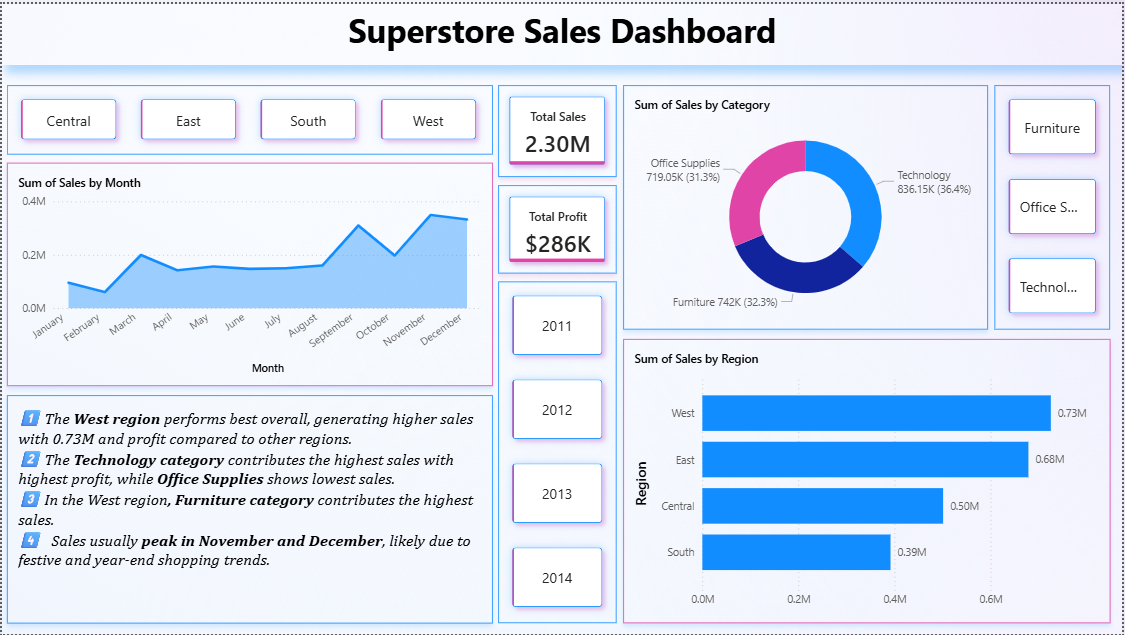

The page's visual inventory and layout, read from the dashboard file:
{"tool":"powerbi","page":{"name":"Page 1","canvas":[1280,720],"ordinal":0},"visuals":[{"type":"donutChart","fields":{"Y":["Sum(Superstore.Sales)"],"Category":["Superstore.Category"]},"box":[710,93.3,416.7,278.9],"z":1000},{"type":"barChart","fields":{"Category":["Superstore.Region"],"Y":["Sum(Superstore.Sales)"]},"box":[710,383.3,556.7,324.4],"z":1500},{"type":"advancedSlicerVisual","fields":{"Values":["Superstore.Order Date.Variation.Date Hierarchy.Year"]},"box":[567.8,317.8,135.6,390],"z":2000},{"type":"lineChart","fields":{"Category":["Superstore.Order Date.Variation.Date Hierarchy.Month"],"Y":["Sum(Superstore.Sales)"]},"box":[5.6,181.1,555.6,255.6],"z":3000},{"type":"advancedSlicerVisual","fields":{"Values":["Superstore.Region"]},"box":[5.6,93.3,555.6,78.9],"z":4000},{"type":"textbox","box":[0,0,1280.5,69.4],"z":5000},{"type":"cardVisual","fields":{"Data":["Sum(Superstore.Profit)"]},"box":[567.8,207.8,135.6,101.1],"z":6000},{"type":"textbox","box":[5.6,446.7,555.6,261.1],"z":7000},{"type":"cardVisual","fields":{"Data":["Sum(Superstore.Sales)"]},"box":[567.8,93.3,135.6,104.4],"z":8000},{"type":"advancedSlicerVisual","fields":{"Values":["Superstore.Category"]},"box":[1134.4,93.3,132.2,278.9],"z":9000}]}

Visuals, with their boxes in screenshot pixels (x1, y1, x2, y2), scaled from the page's 1280x720 canvas onto the 1125x635 screenshot:
donutChart - Sum(Superstore.Sales) x Superstore.Category: 624,82,990,328
barChart - Superstore.Region x Sum(Superstore.Sales): 624,338,1113,624
advancedSlicerVisual - Superstore.Order Date.Variation.Date Hierarchy.Year: 499,280,618,624
lineChart - Superstore.Order Date.Variation.Date Hierarchy.Month x Sum(Superstore.Sales): 5,160,493,385
advancedSlicerVisual - Superstore.Region: 5,82,493,152
textbox: 0,0,1124,61
cardVisual - Sum(Superstore.Profit): 499,183,618,272
textbox: 5,394,493,624
cardVisual - Sum(Superstore.Sales): 499,82,618,174
advancedSlicerVisual - Superstore.Category: 997,82,1113,328
